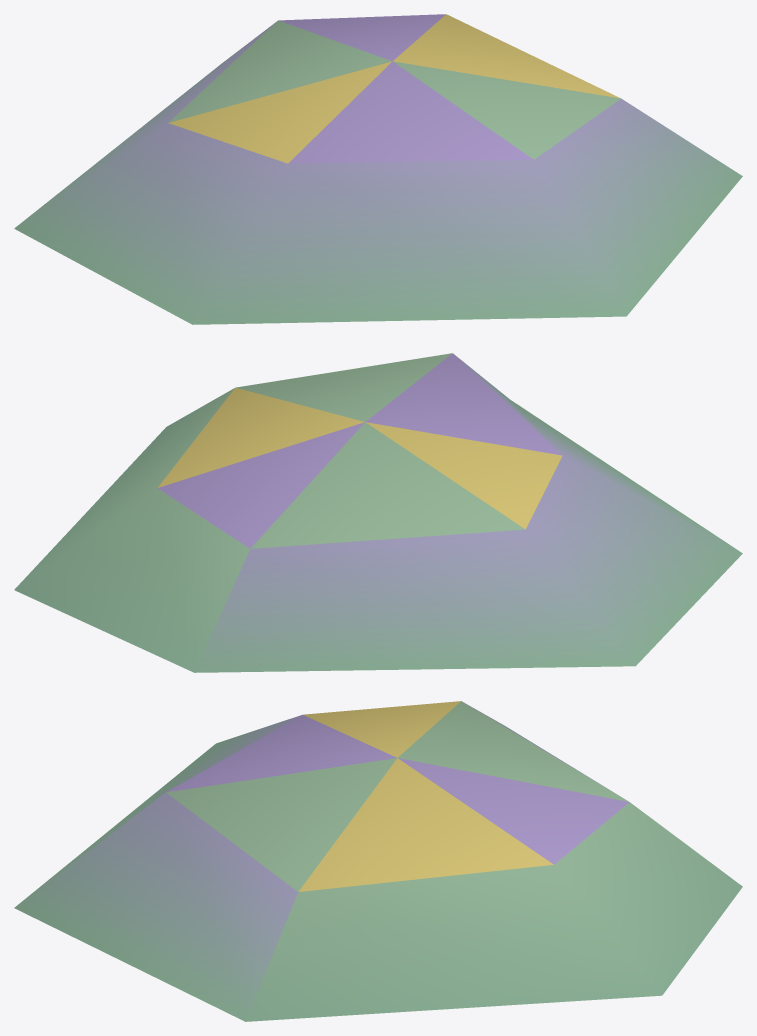
Rendered from crocus_patch_a_far.glb.
3 views of the same model, one above another, from view 1: azimuth 30°, elevation 25°; view 2: azimuth 150°, elevation 25°; view 3: azimuth 270°, elevation 25° (orthographic).
Visible parts, largest first — view 1: soft; view 2: soft; view 3: soft.
Part boxes in pixels (x1,y1,x2,y2): soft: [14, 14, 742, 324]; soft: [14, 353, 742, 672]; soft: [14, 701, 742, 1021].
Size of the model in its own units: 0.6925 by 0.14 by 0.7209.
